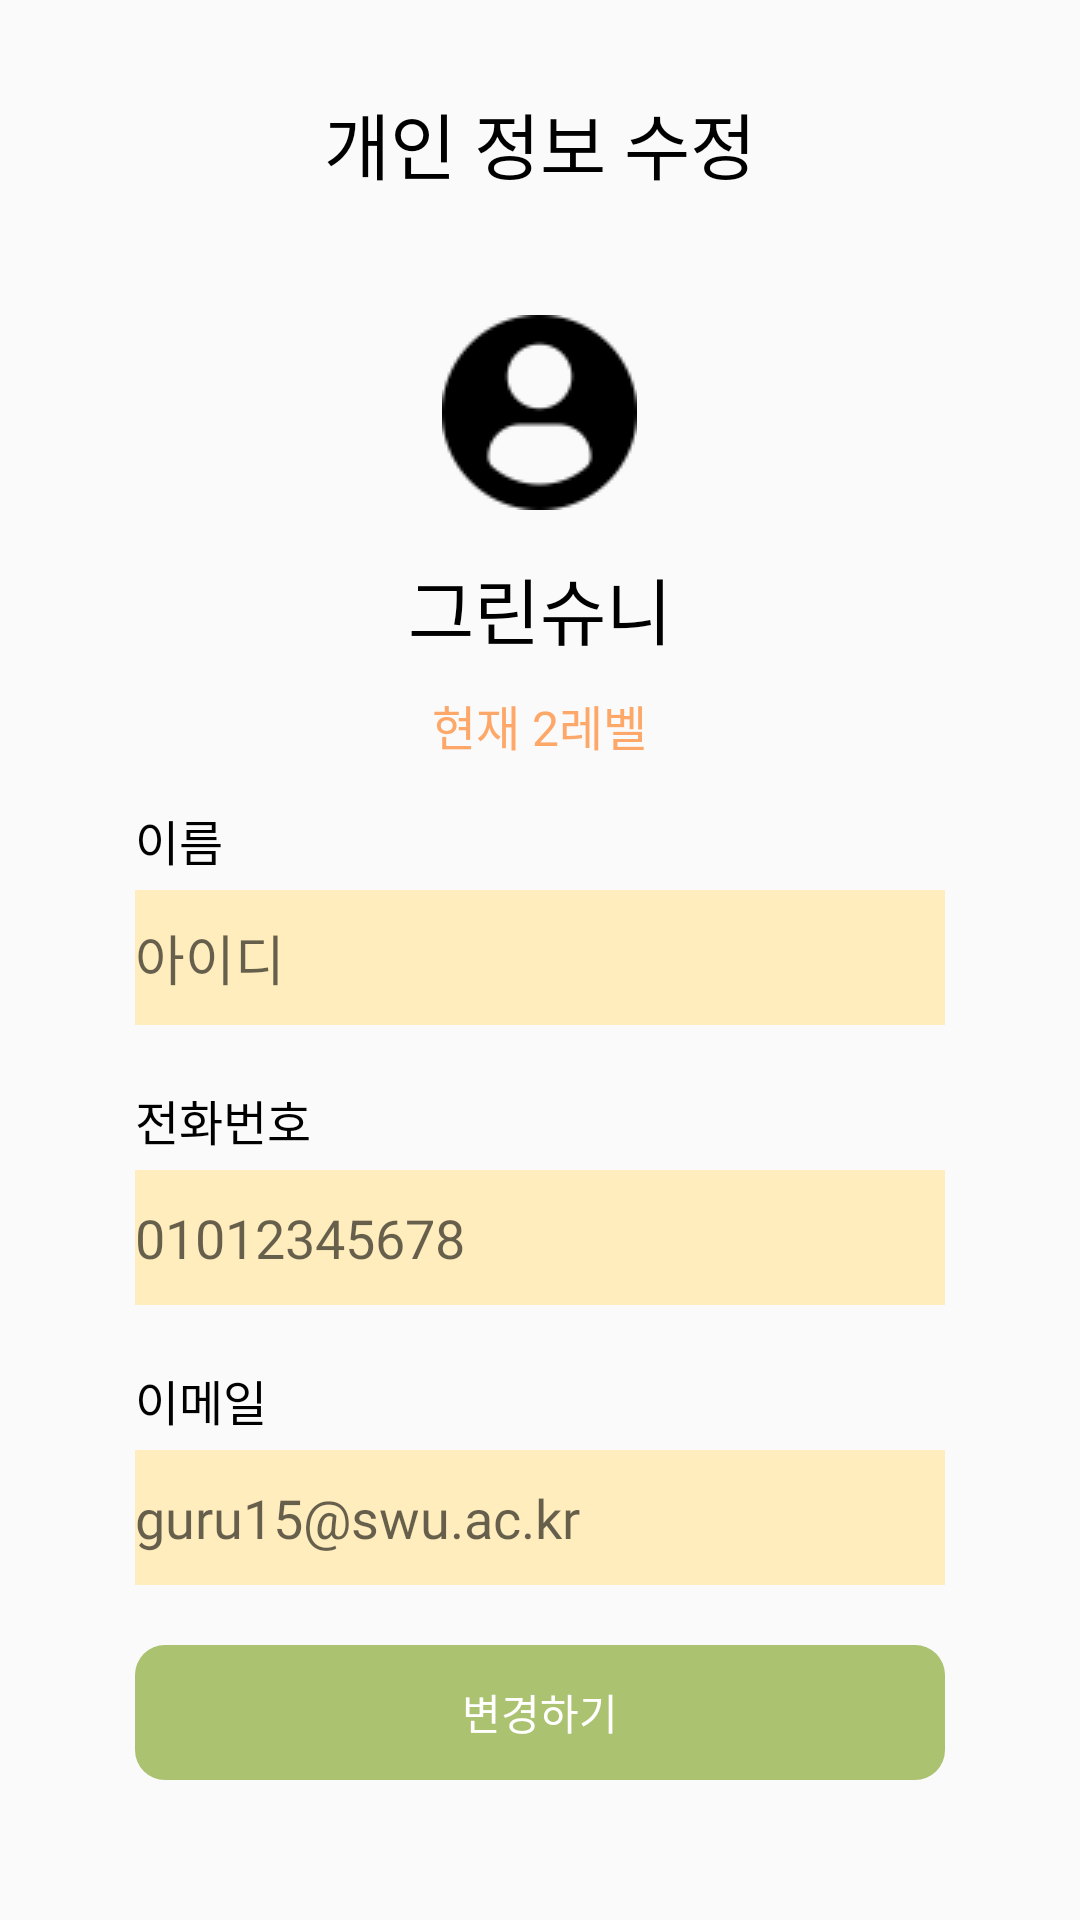

Icons on this 1080*1920 Android screen, each with the point to tap as [x,y]:
ex profile: [539,412]
